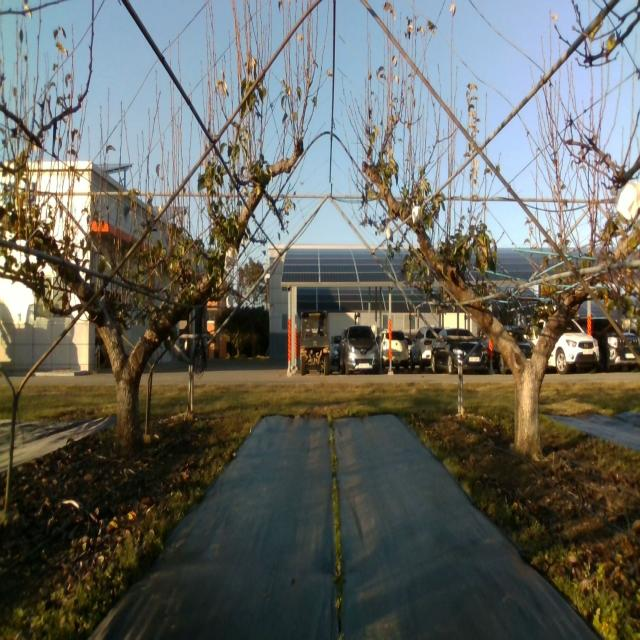pearbags: (609, 179, 640, 224), (224, 247, 238, 268)
